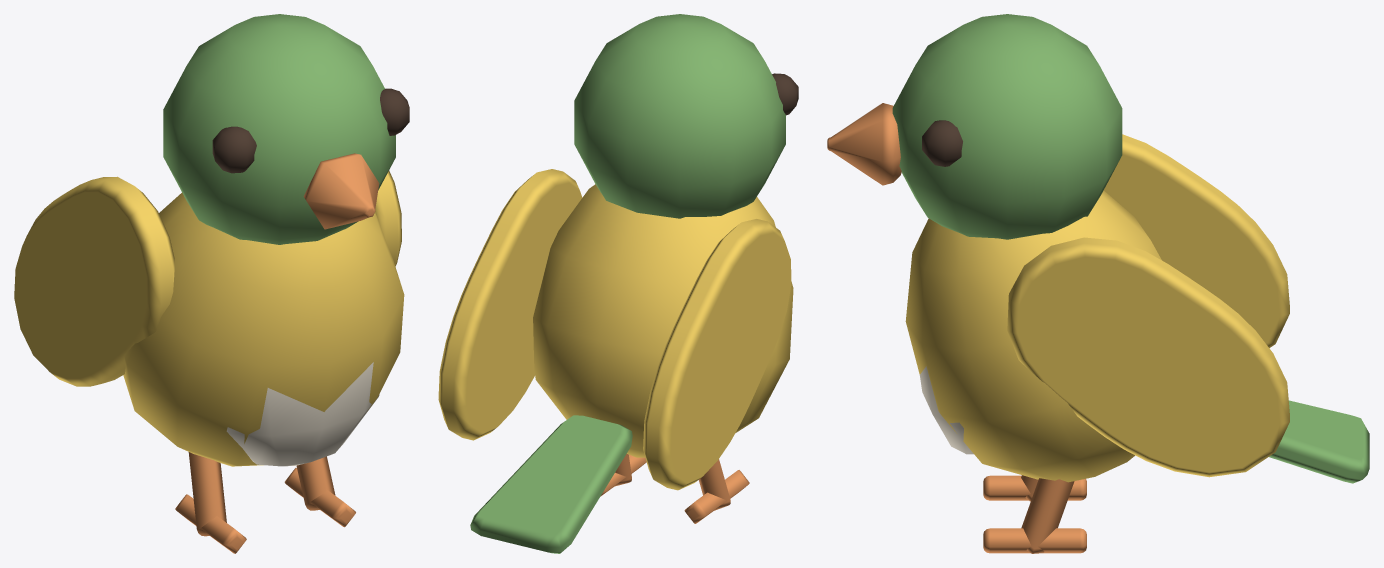
The model's file is pet_bird_yellow.glb.
3 renders of one model, left to right at view 1: azimuth 30°, elevation 25°; view 2: azimuth 150°, elevation 25°; view 3: azimuth 270°, elevation 25°, orthographic. The views are drawn at different scales.
Visible parts, largest first — view 1: pet_bird_yellow_mesh, pet_bird_yellow_Head_mesh, pet_bird_yellow_WingL_mesh, pet_bird_yellow_WingR_mesh; view 2: pet_bird_yellow_Head_mesh, pet_bird_yellow_mesh, pet_bird_yellow_WingL_mesh, pet_bird_yellow_WingR_mesh, pet_bird_yellow_Tail_mesh; view 3: pet_bird_yellow_WingR_mesh, pet_bird_yellow_Head_mesh, pet_bird_yellow_mesh, pet_bird_yellow_WingL_mesh, pet_bird_yellow_Tail_mesh.
Part boxes in pixels (<box>): pet_bird_yellow_mesh: <box>123,192,404,553</box>; pet_bird_yellow_Head_mesh: <box>163,14,409,244</box>; pet_bird_yellow_WingL_mesh: <box>14,176,174,386</box>; pet_bird_yellow_WingR_mesh: <box>375,170,401,266</box>; pet_bird_yellow_Head_mesh: <box>574,14,798,218</box>; pet_bird_yellow_mesh: <box>533,184,793,523</box>; pet_bird_yellow_WingL_mesh: <box>643,219,791,490</box>; pet_bird_yellow_WingR_mesh: <box>438,169,582,440</box>; pet_bird_yellow_Tail_mesh: <box>470,415,632,553</box>; pet_bird_yellow_WingR_mesh: <box>1007,237,1289,477</box>; pet_bird_yellow_Head_mesh: <box>827,14,1122,239</box>; pet_bird_yellow_mesh: <box>905,190,1161,553</box>; pet_bird_yellow_WingL_mesh: <box>1104,134,1289,347</box>; pet_bird_yellow_Tail_mesh: <box>1269,400,1369,483</box>.
Bounding box in the file's own units: 0.0846 × 0.16 × 0.1566.
